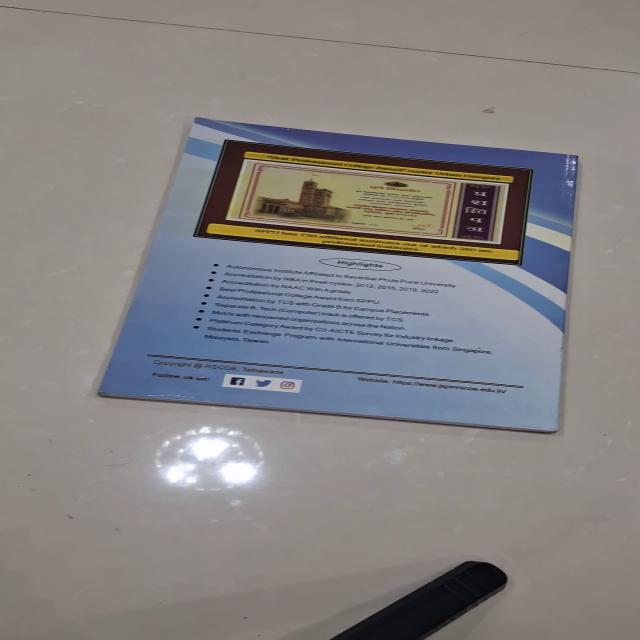paper: (96, 116, 578, 434)
